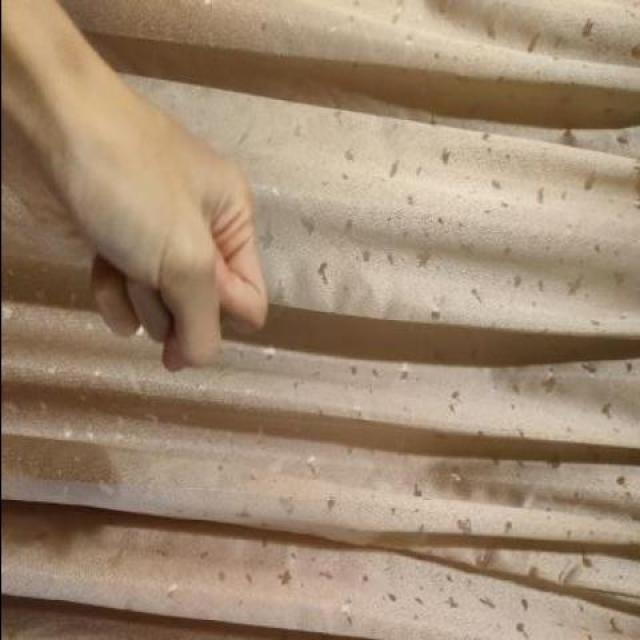Closed Hand: (28, 109, 276, 378)
